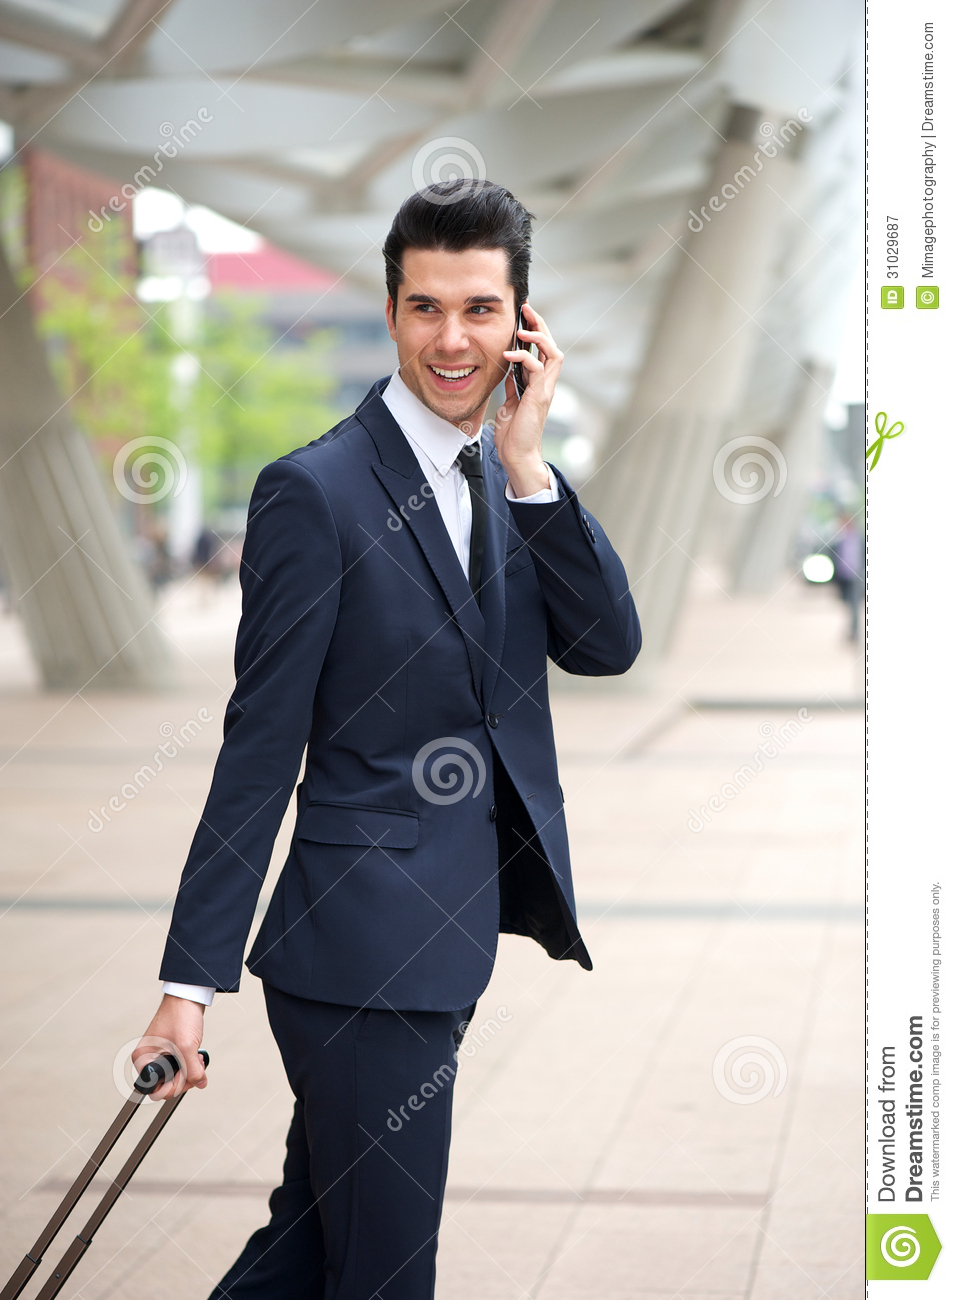phone: (508, 294, 531, 402)
talk: (400, 276, 568, 467)
